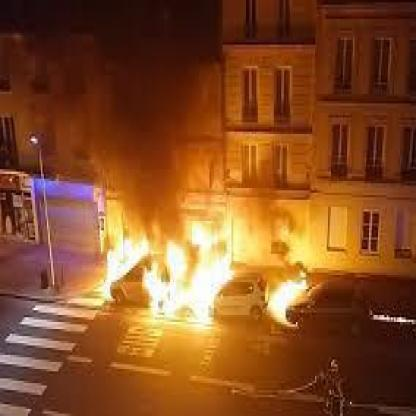fire: (92, 218, 238, 320), (262, 264, 308, 326)
smoke: (23, 1, 220, 192)
